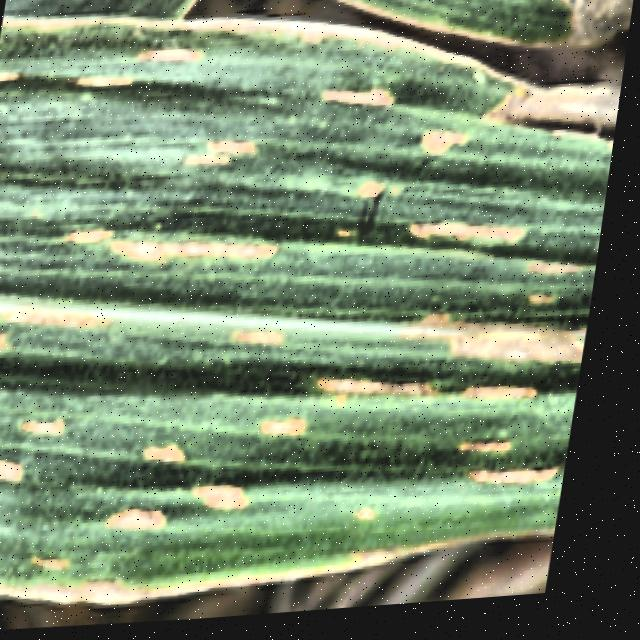gray_spot: (0, 0, 635, 599)
